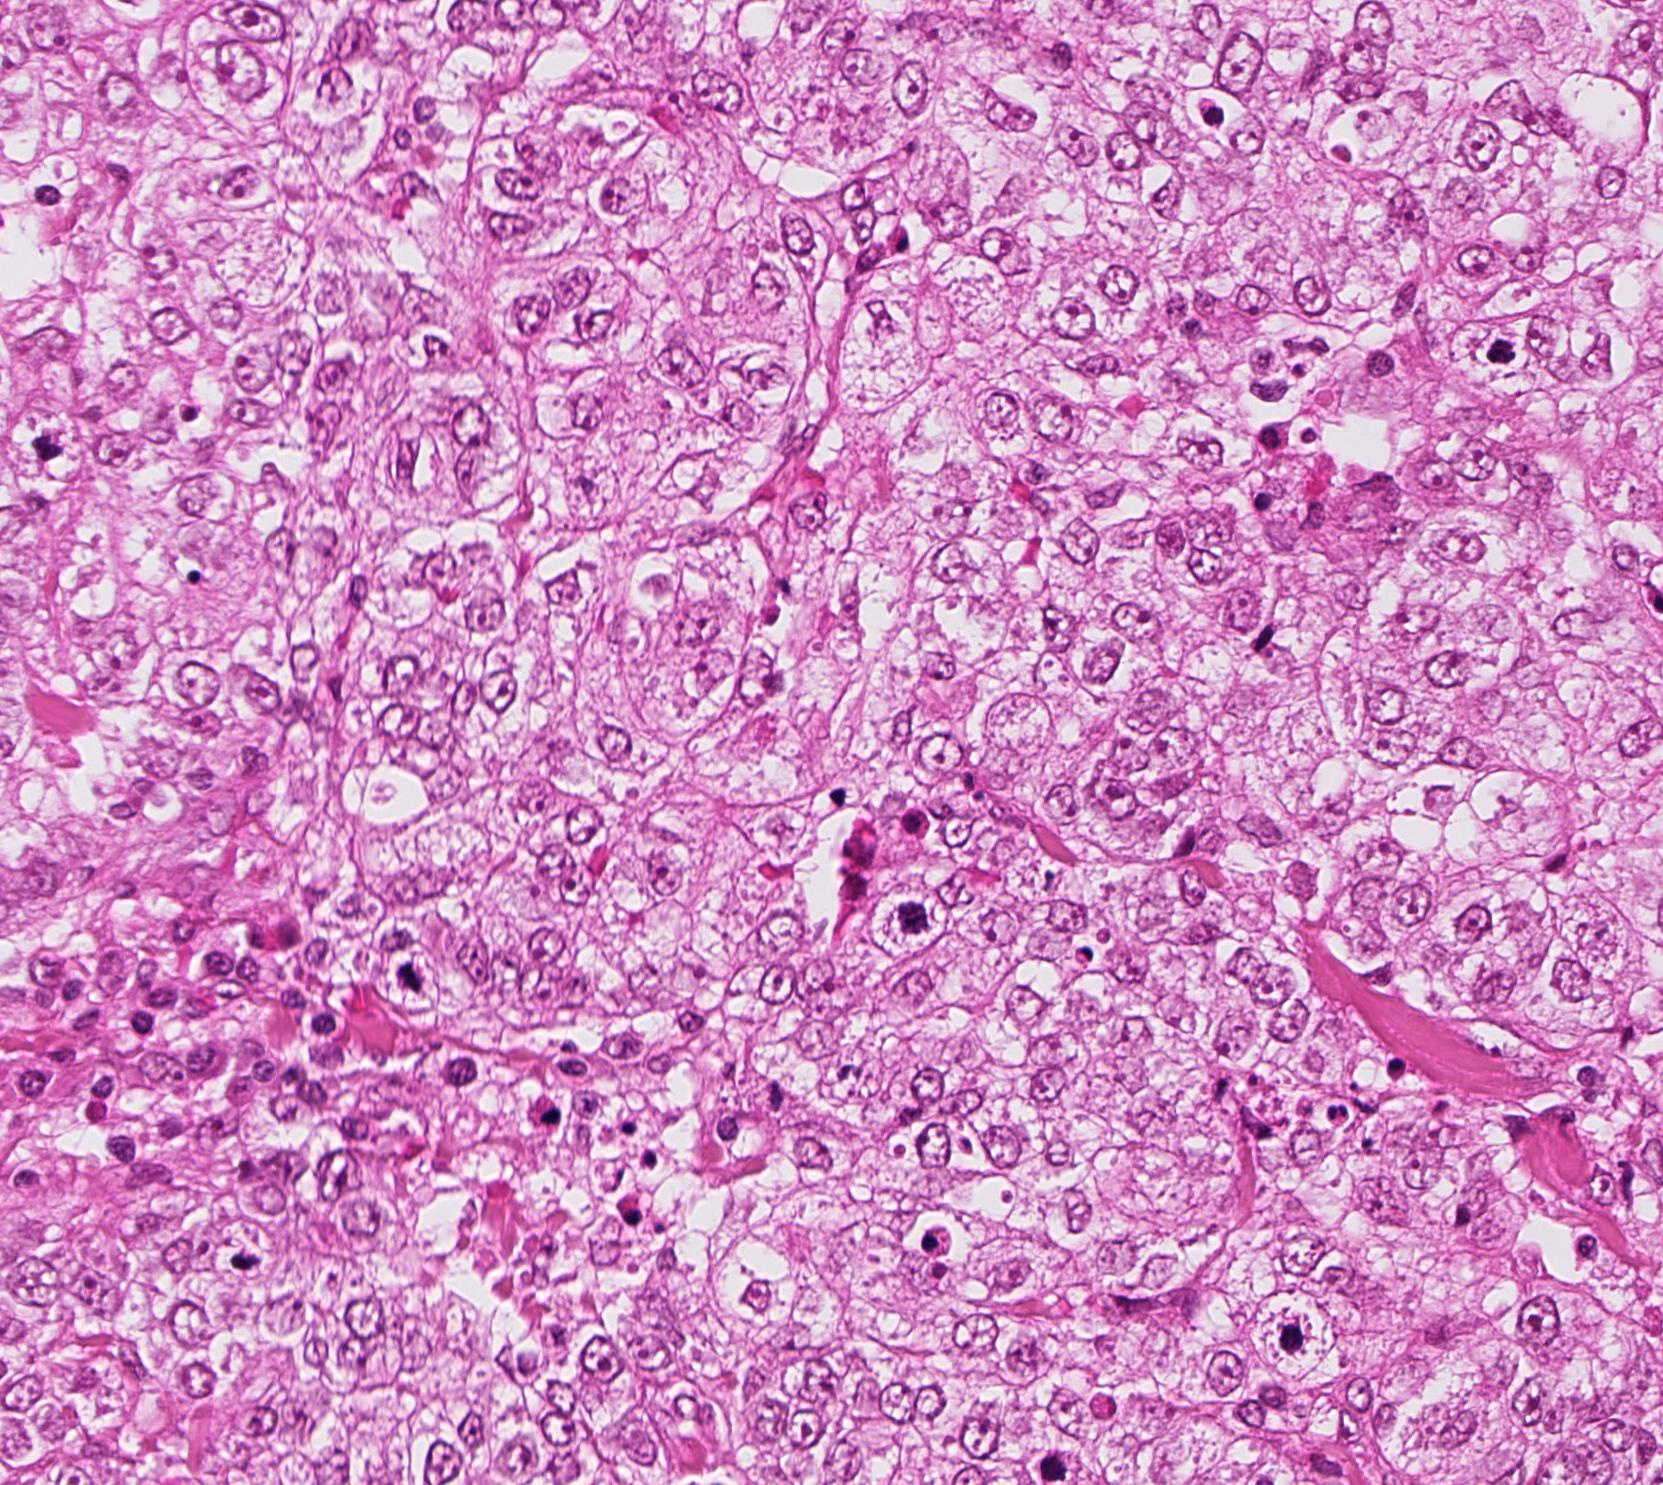mitosis: (1477, 320, 1537, 380), (209, 1223, 270, 1283), (20, 411, 80, 472), (1263, 1304, 1323, 1365), (885, 884, 943, 945), (1021, 1436, 1081, 1485)
